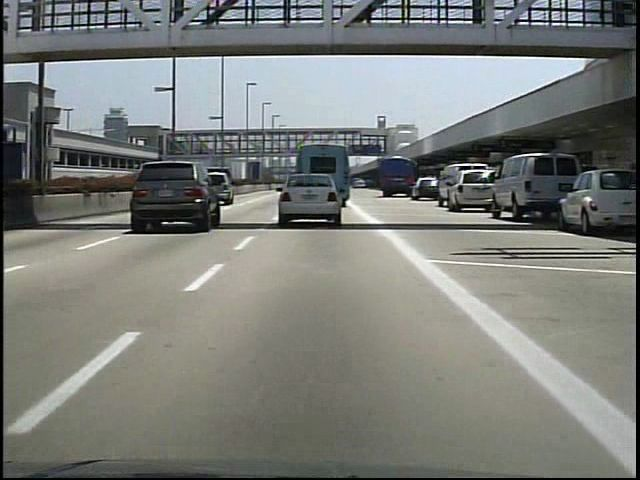car: (130, 157, 228, 232), (563, 165, 638, 233), (491, 157, 561, 225), (273, 172, 345, 234), (441, 170, 493, 212), (377, 155, 413, 198), (214, 168, 235, 203), (414, 175, 438, 205)
strada: (11, 257, 627, 473)
